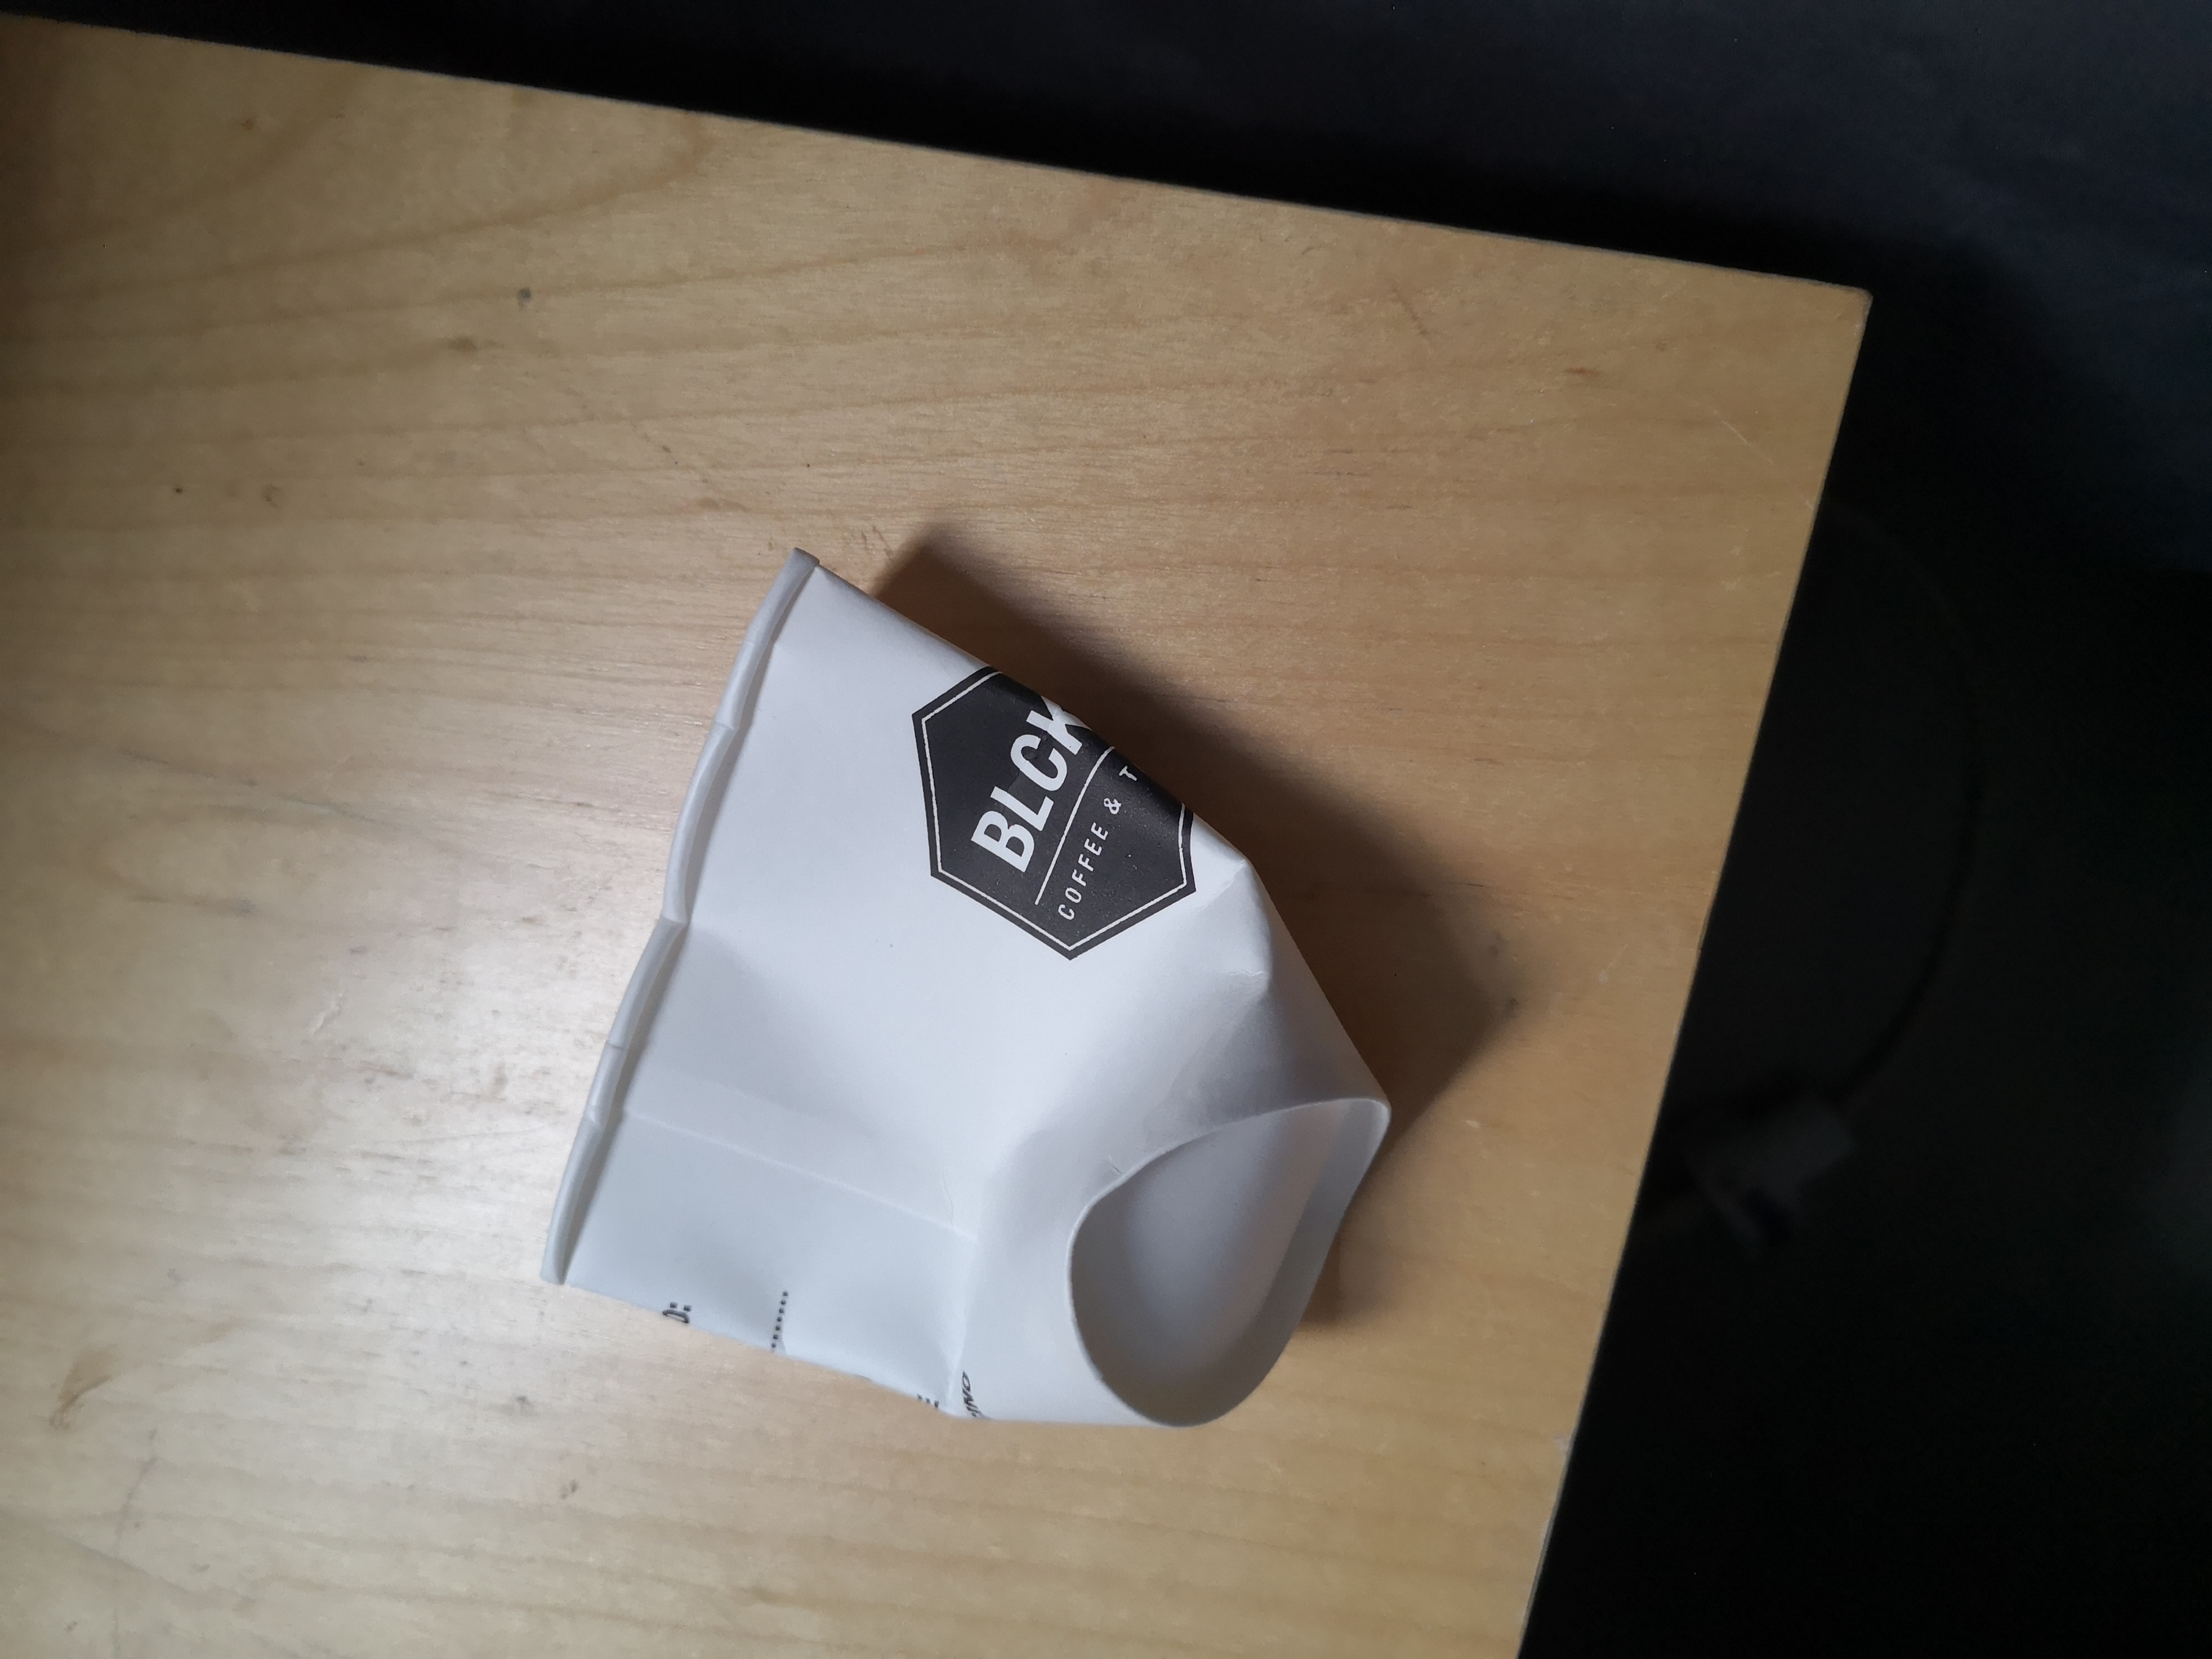cup: (491, 523, 1409, 1474)
